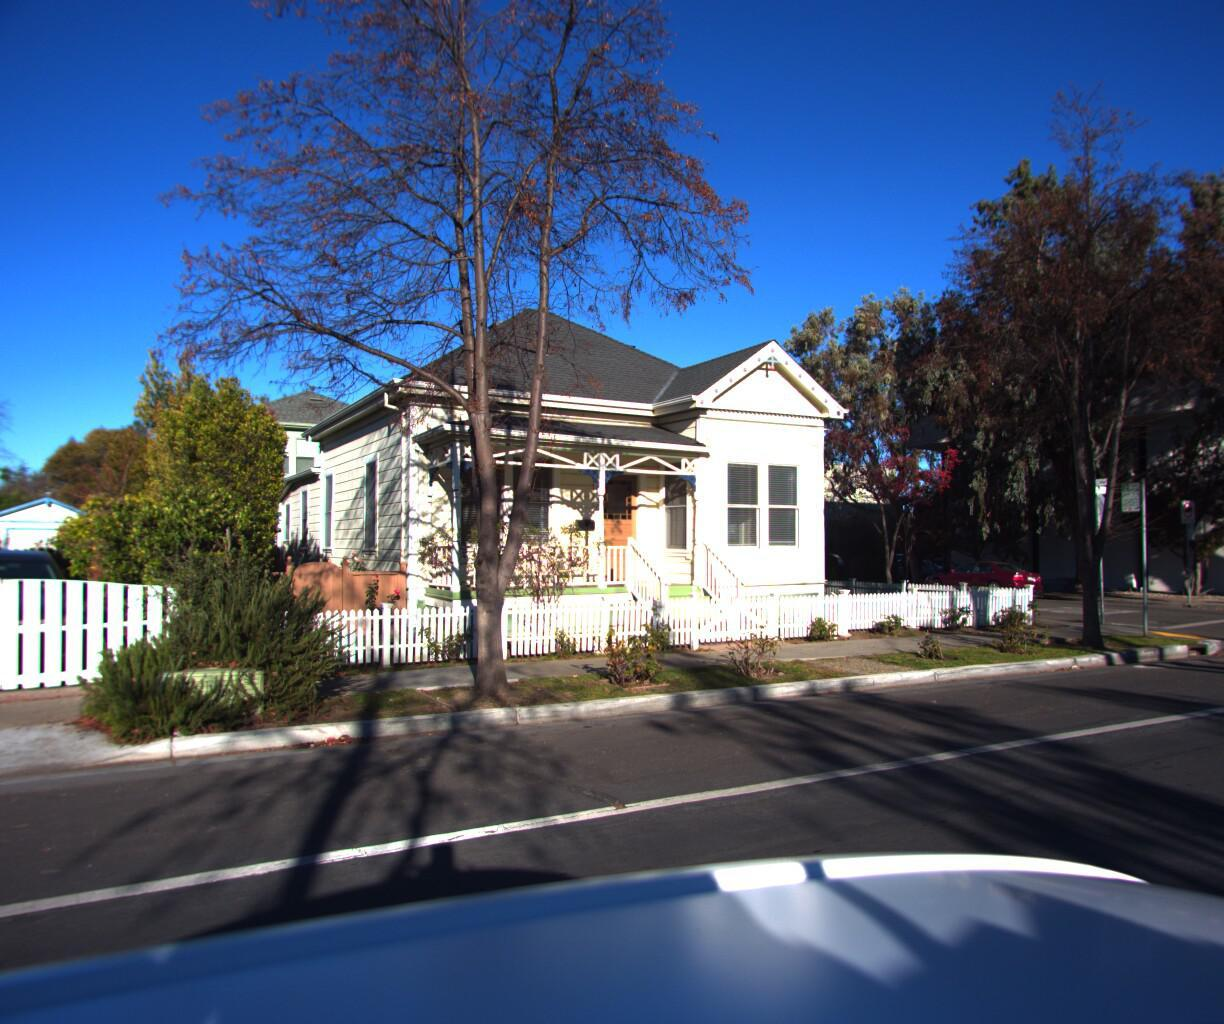car: (0, 551, 75, 705), (917, 557, 1044, 599)
